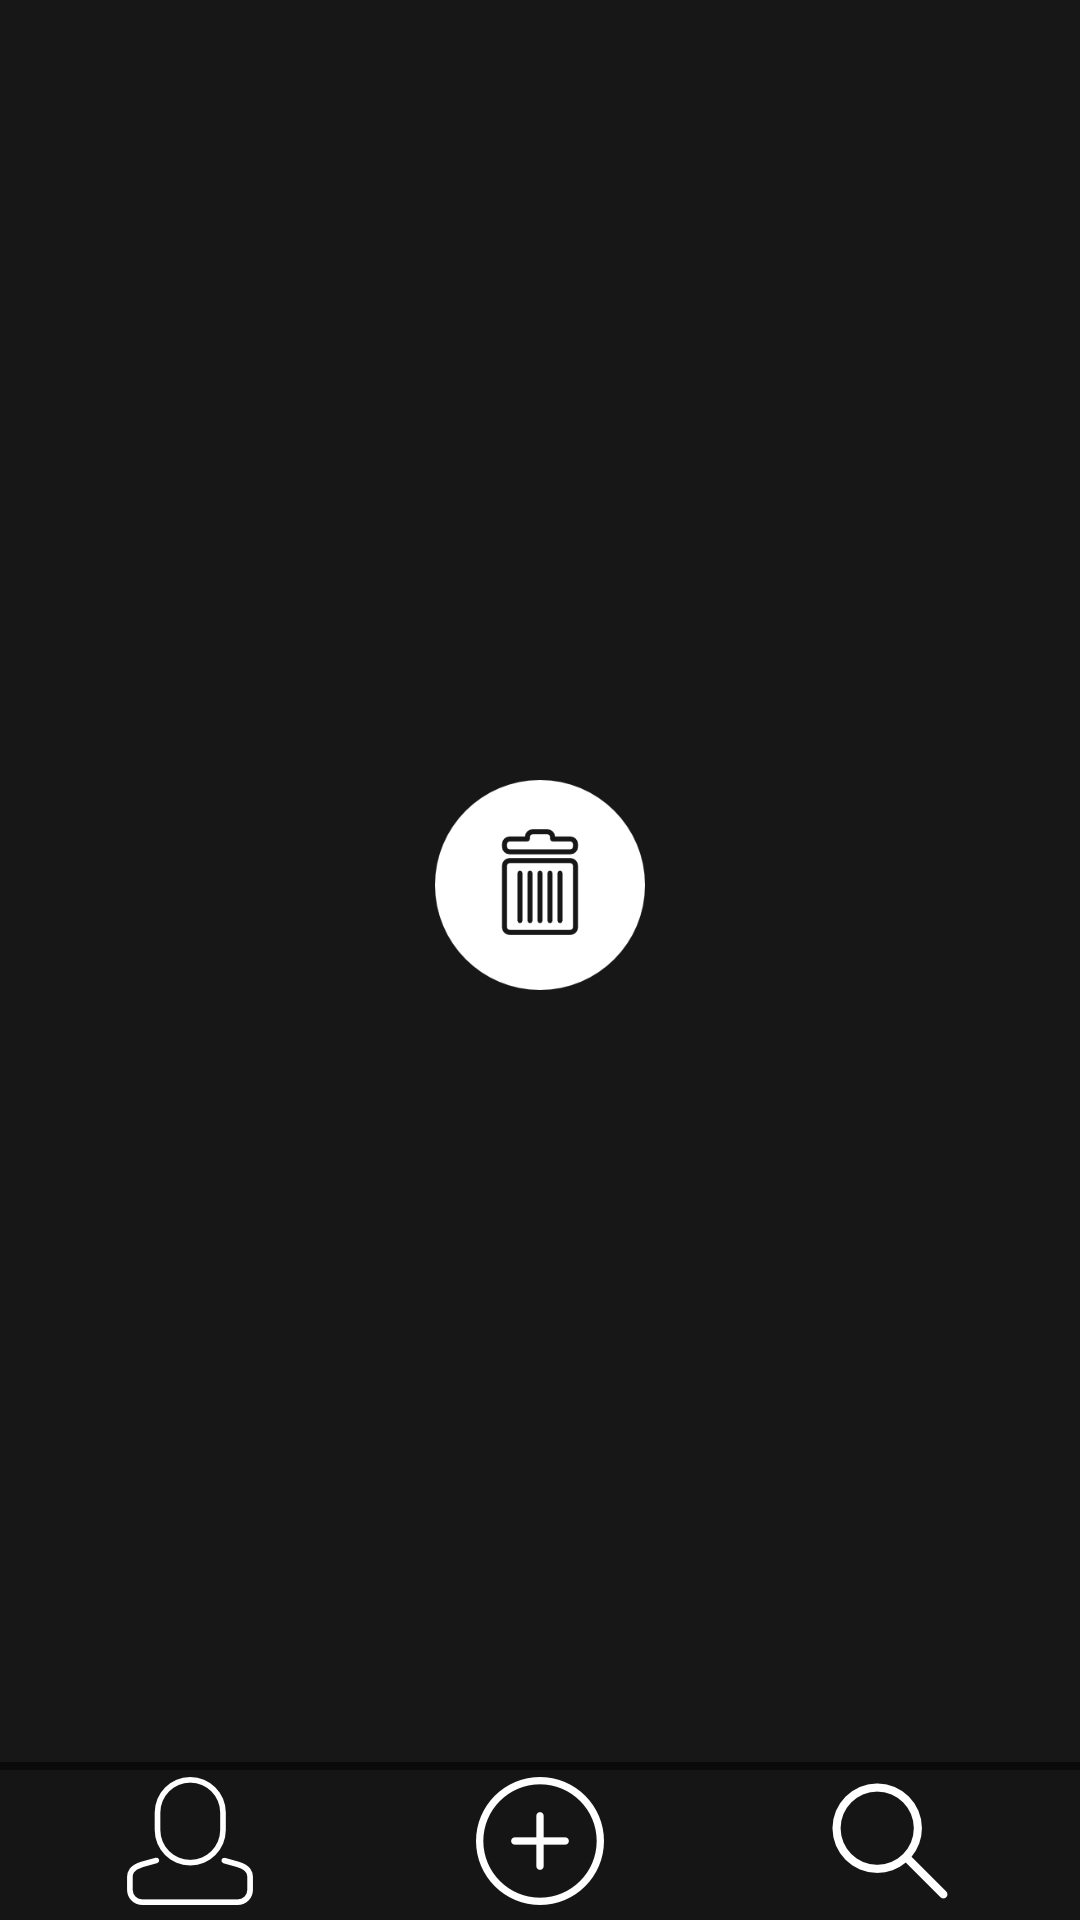

Icons on this 1080 x 1920 Android screen, each with its box as (x1, y1, x2, y2):
buttondeleteimage: (435, 780, 645, 990)
plus: (476, 1777, 604, 1905)
search: (832, 1783, 948, 1899)
useravatar: (127, 1777, 253, 1905)
